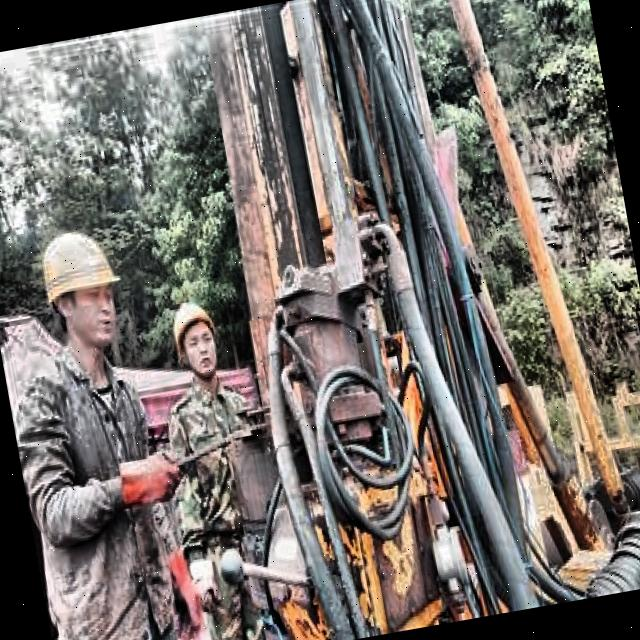helmet: (27, 212, 137, 368), (161, 285, 230, 389)
